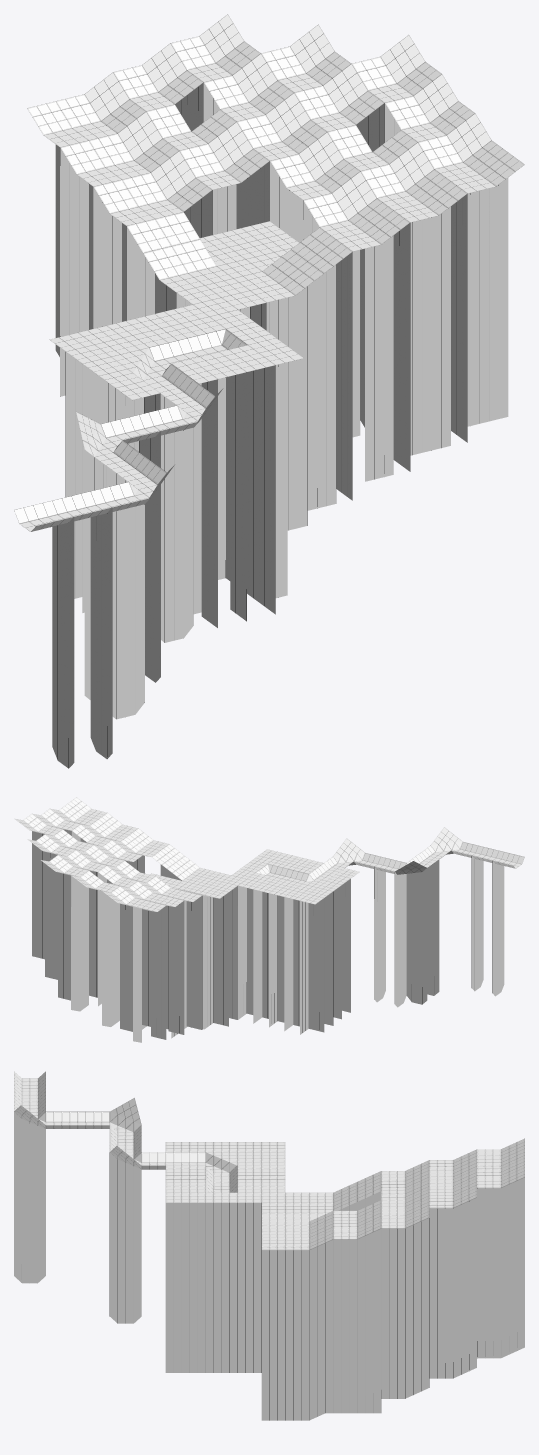
File: Level_top.obj
The picture shows the model from 3 angles, top to bottom: view 1: azimuth 30°, elevation 25°; view 2: azimuth 150°, elevation 25°; view 3: azimuth 270°, elevation 25°; orthographic projection. The views are drawn at different scales.
Visible parts, largest first — view 1: Top_planar0148.001; view 2: Top_planar0148.001; view 3: Top_planar0148.001.
Boxes of the visible parts, x1=… form: Top_planar0148.001: x1=14, y1=14, x2=524, y2=768; Top_planar0148.001: x1=14, y1=797, x2=524, y2=1042; Top_planar0148.001: x1=14, y1=1071, x2=524, y2=1420.
Size of the model in its own units: 69 by 37.58 by 64.
